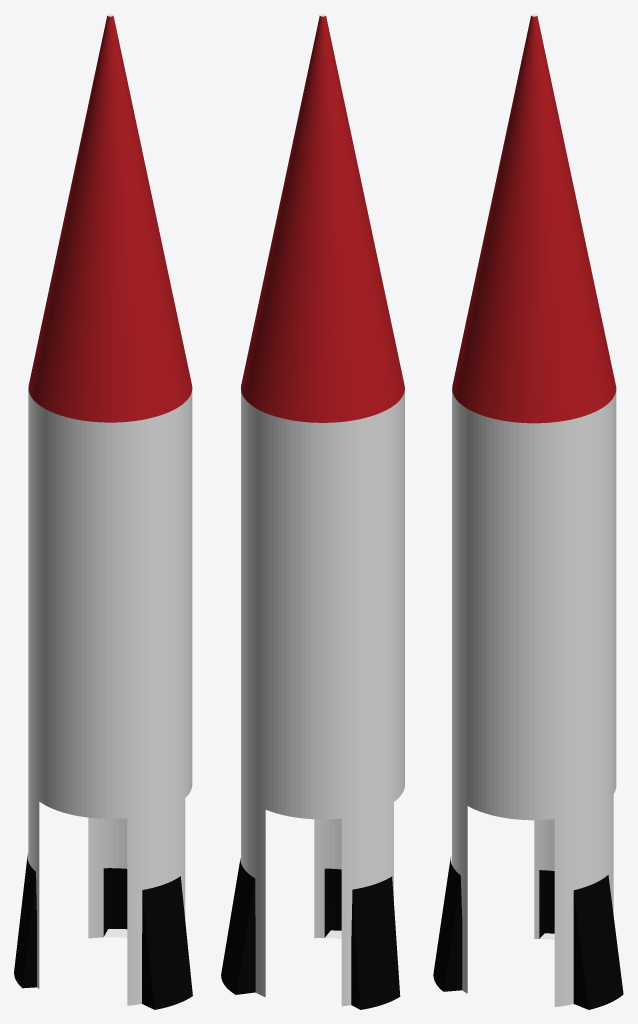
Rendered from rocket.fbx.
The picture shows the model from 3 angles, left to right: view 1: azimuth 30°, elevation 25°; view 2: azimuth 150°, elevation 25°; view 3: azimuth 270°, elevation 25°; orthographic projection.
Parts seen in each view (by area): view 1: Cylinder; view 2: Cylinder; view 3: Cylinder.
Part boxes in pixels (bbox=[...]): Cylinder: bbox=[14, 14, 192, 1009]; Cylinder: bbox=[221, 14, 404, 1009]; Cylinder: bbox=[433, 14, 623, 1009].
Size of the model in its own units: 2.21 by 12.88 by 2.32.
